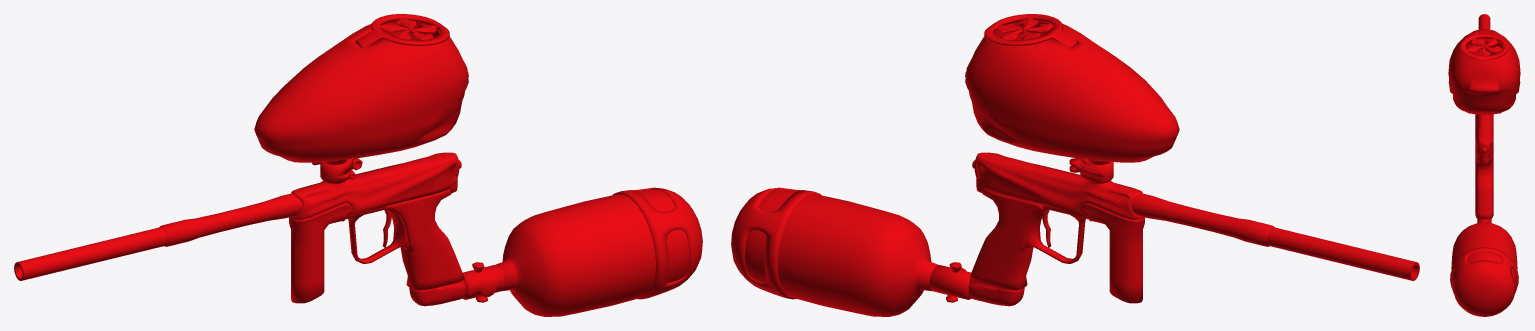
File: Dye_MXR_Low.fbx
3 renders of one model, left to right at view 1: azimuth 30°, elevation 25°; view 2: azimuth 150°, elevation 25°; view 3: azimuth 270°, elevation 25°, orthographic. The views are drawn at different scales.
Parts seen in each view (by area): view 1: Foregrip_low.001; view 2: Foregrip_low.001; view 3: Foregrip_low.001.
Boxes of the visible parts, left/top/right/bottom form: Foregrip_low.001: left=14, top=14, right=702, bottom=316; Foregrip_low.001: left=731, top=14, right=1419, bottom=316; Foregrip_low.001: left=1448, top=14, right=1520, bottom=316.
Size of the model in its own units: 98.98 by 45.62 by 14.99.
